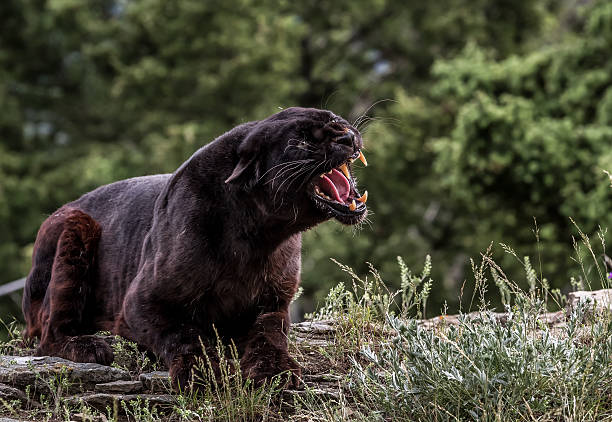panther: (222, 100, 384, 245)
